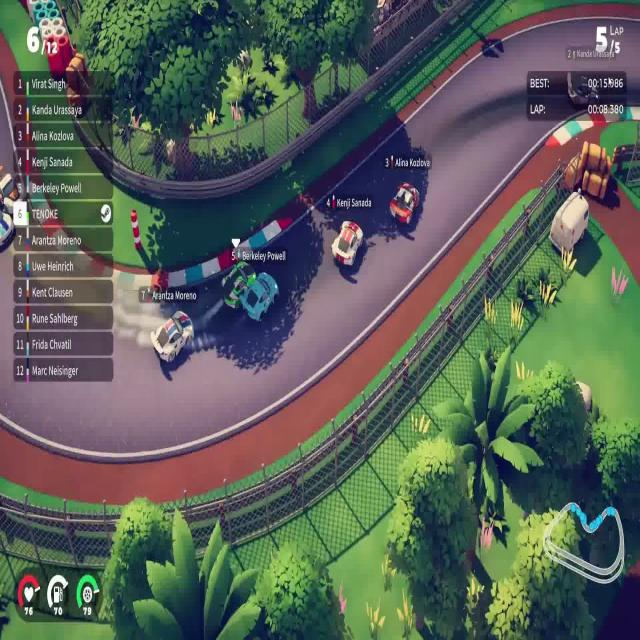car: (150, 309, 194, 364), (240, 270, 280, 322), (330, 218, 364, 269), (388, 180, 420, 228)
